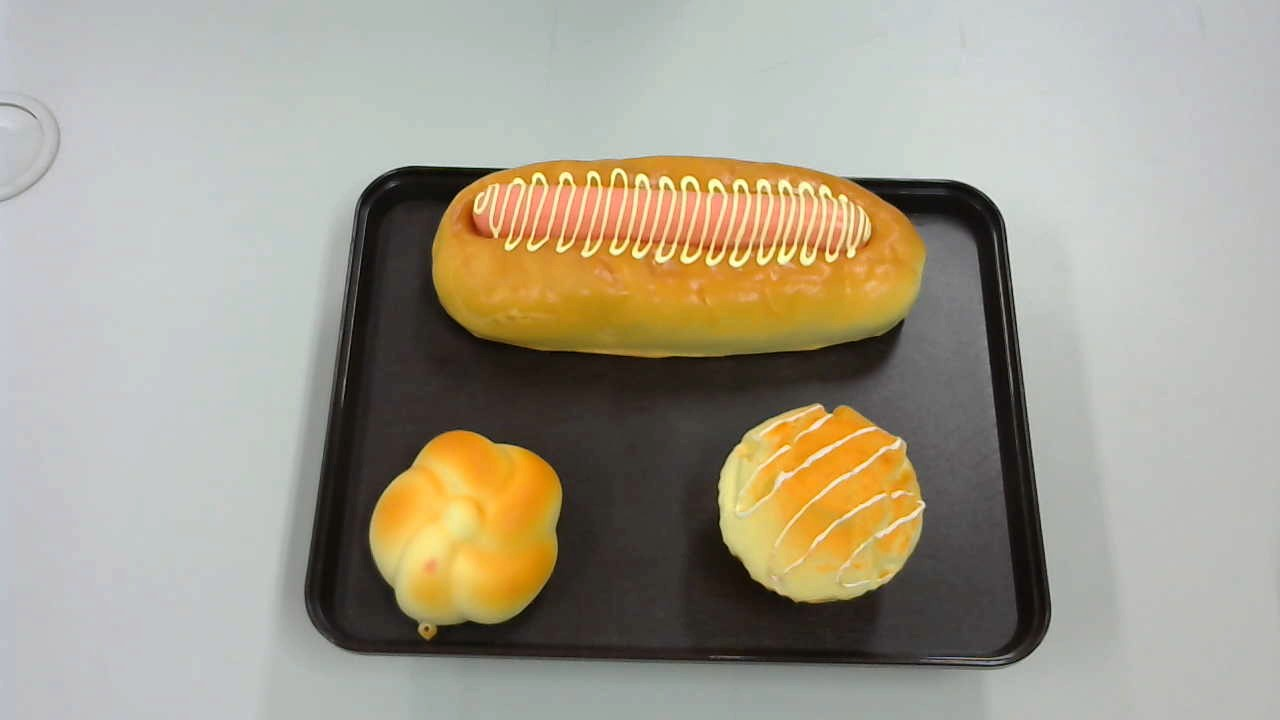croissant: (370, 429, 562, 638)
cupcake: (718, 405, 927, 602)
hot dog: (430, 158, 927, 357)
